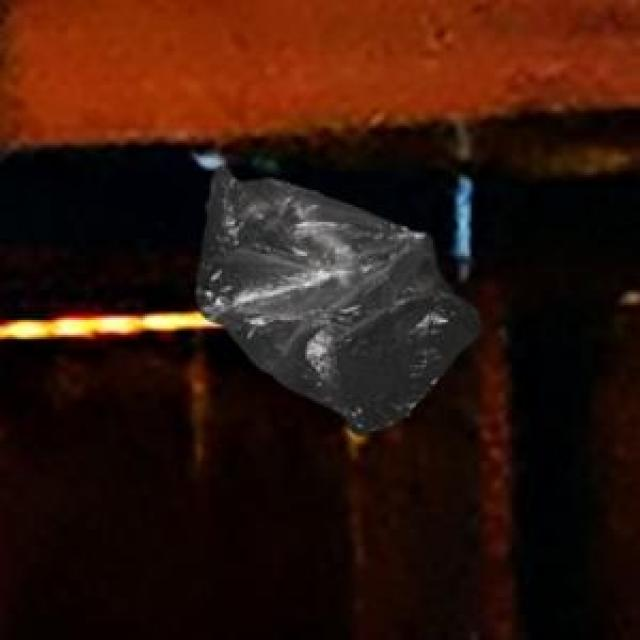plastic: (128, 102, 513, 447)
